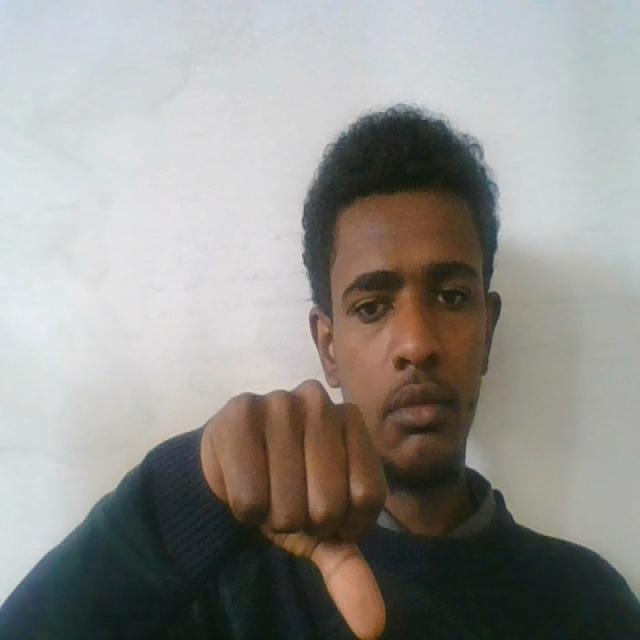yes: (200, 367, 400, 640)
